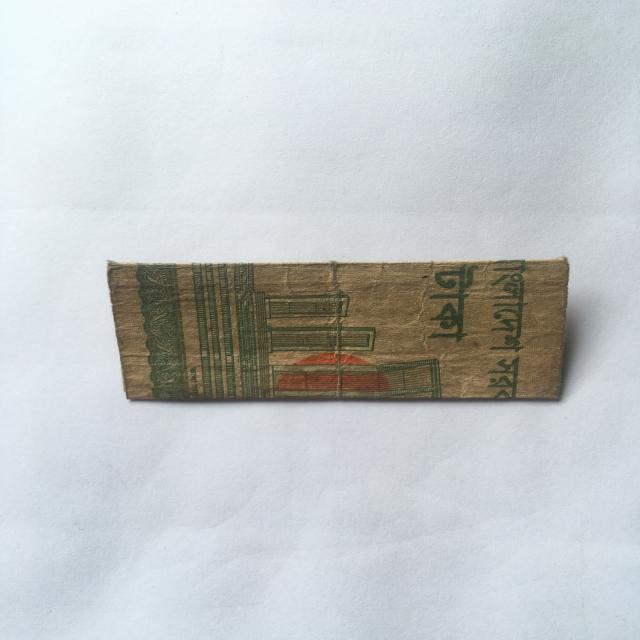Taka: (102, 256, 574, 410)
